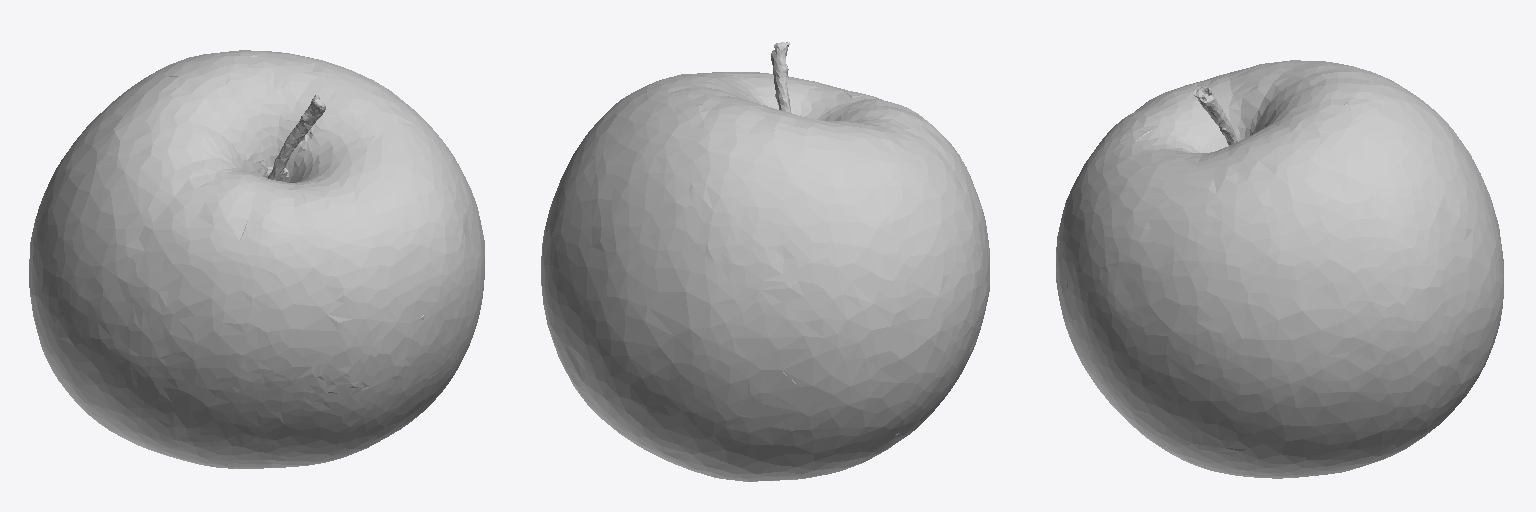
Rendered from apple.obj.
3 renders of one model, left to right at view 1: azimuth 30°, elevation 25°; view 2: azimuth 150°, elevation 25°; view 3: azimuth 270°, elevation 25°, orthographic.
Visible parts, largest first — view 1: food_apple_01_apple_50k_uv.001; view 2: food_apple_01_apple_50k_uv.001; view 3: food_apple_01_apple_50k_uv.001.
Part boxes in pixels (x1,y1,x2,y2): food_apple_01_apple_50k_uv.001: (29, 50, 484, 468); food_apple_01_apple_50k_uv.001: (541, 42, 989, 481); food_apple_01_apple_50k_uv.001: (1056, 60, 1503, 478).
Bounding box in the file's own units: 0.9268 × 0.8112 × 0.9111.